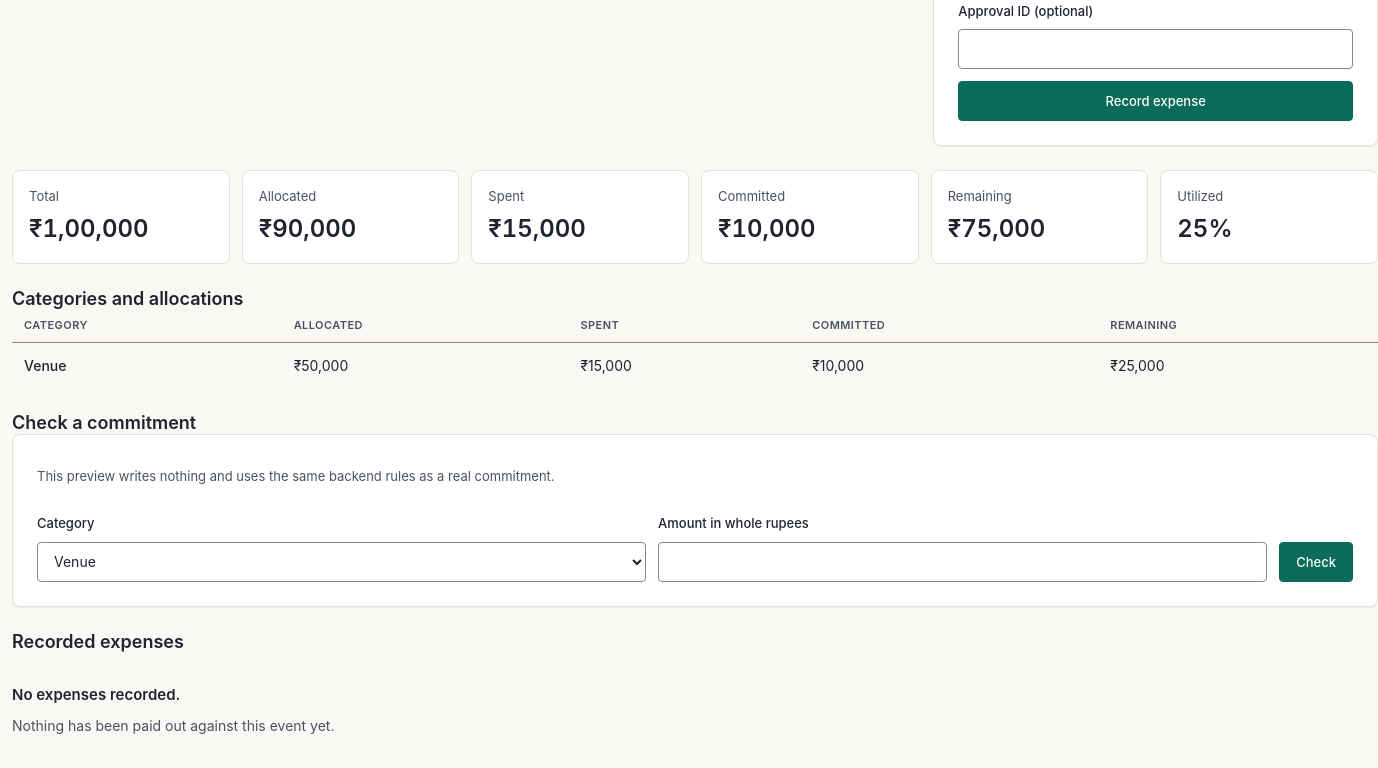
Test: operational pages › renders backend budget totals and projection without client subtraction
This screenshot has width=1378, height=768.
(page scrolled)
Expected: the text "₹75,000" is shown, [948, 214, 1045, 243]
Type "12500" into the field labelled "Amount in whole rupees" at [963, 562], box [658, 542, 1267, 582]
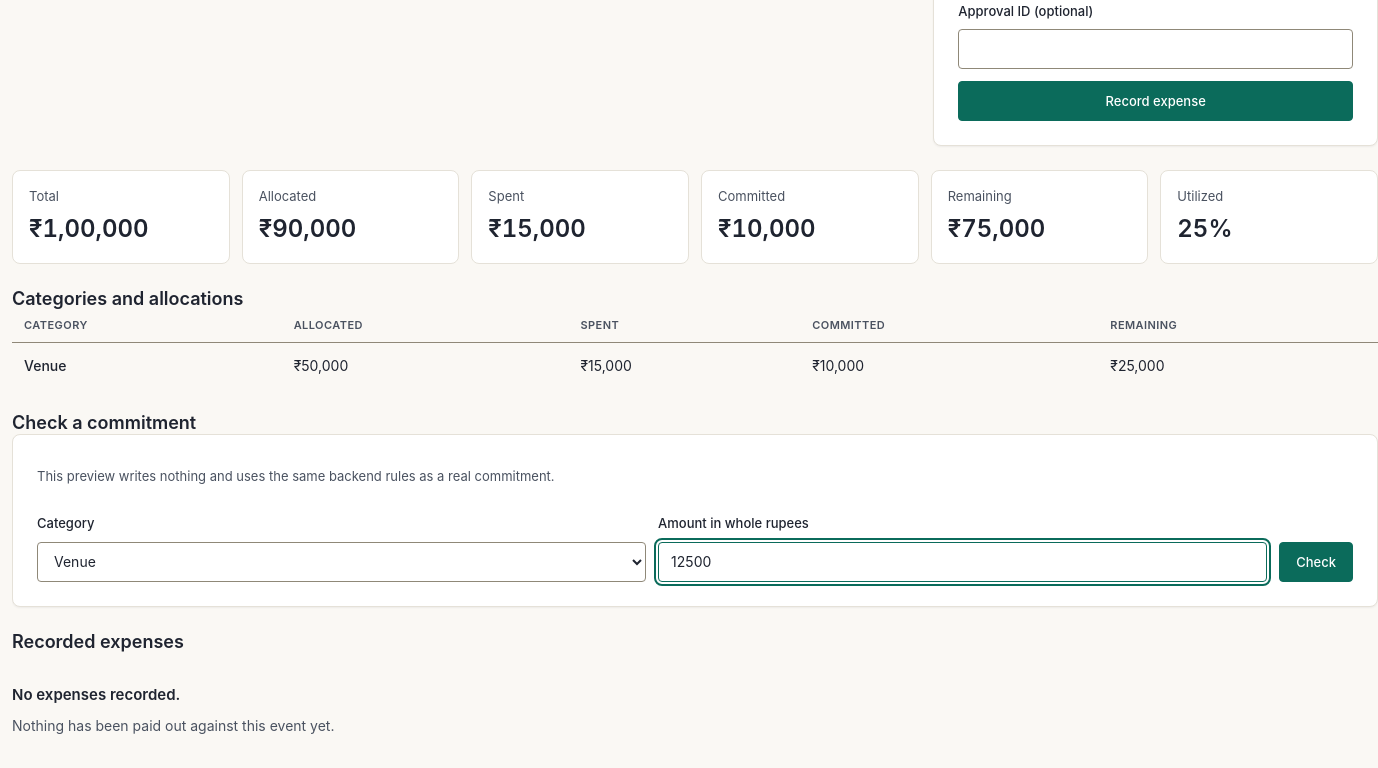
Click the button "Check" at [1316, 562], box [1279, 542, 1353, 582]
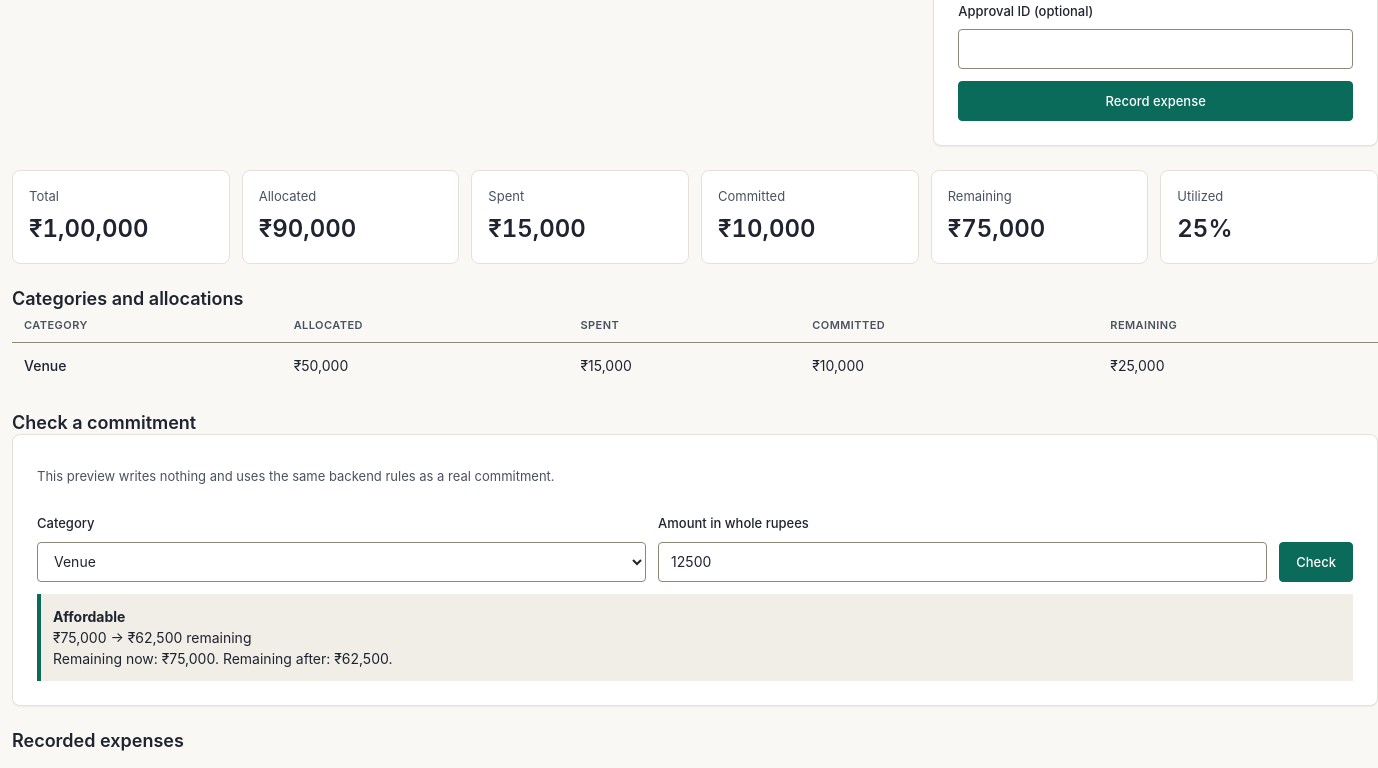
Expected: the text "₹75,000 → ₹62,500 remaining" is shown, [53, 629, 252, 646]
Expected: the text "Remaining now: ₹75,000. Remaining after: ₹62,500." is shown, [53, 650, 392, 667]
